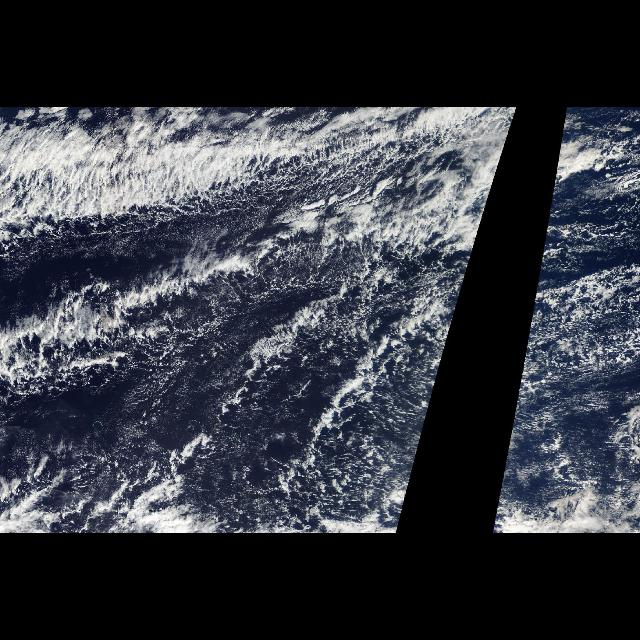Fish: (6, 108, 510, 404)
Gravel: (202, 406, 412, 526)
